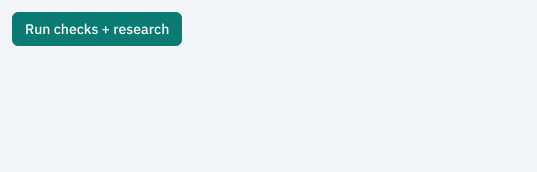
Scenario: one click runs checks, then research, and sums up both
Step 1. Click the button "Run checks + research" → (97, 29), box [12, 12, 182, 46]
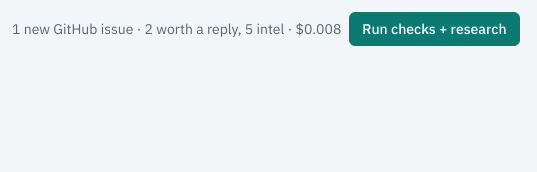
Expected: the message reads "1 new GitHub issue · 2 worth a reply, 5 intel · $0.008", [12, 20, 341, 38]
